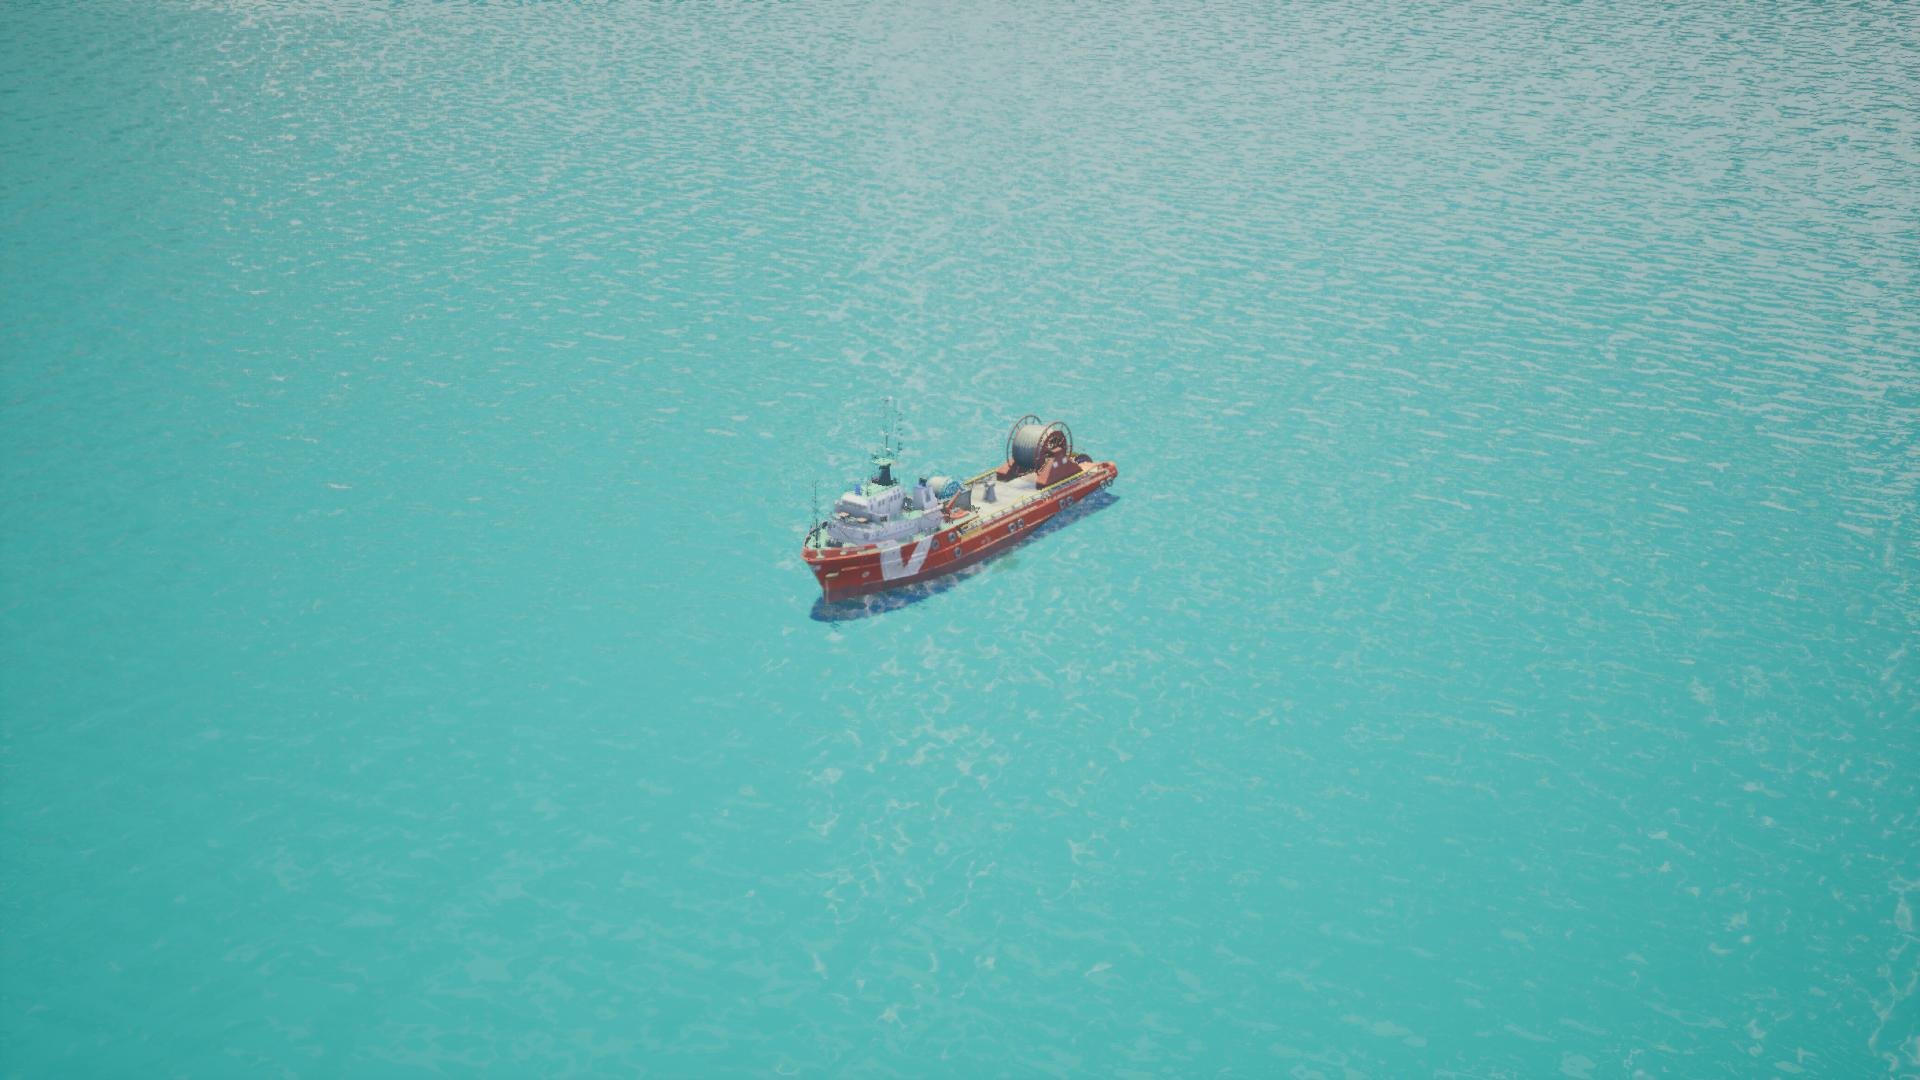Tug Boat: (795, 419, 1120, 626)
